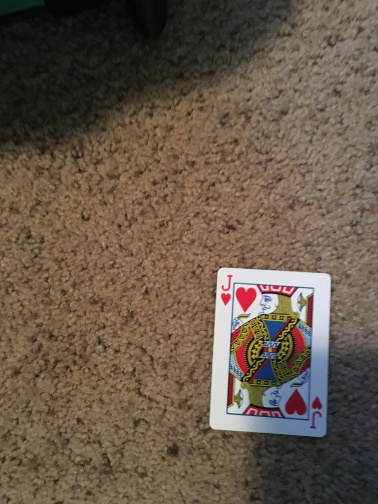jack: (208, 267, 333, 438)
